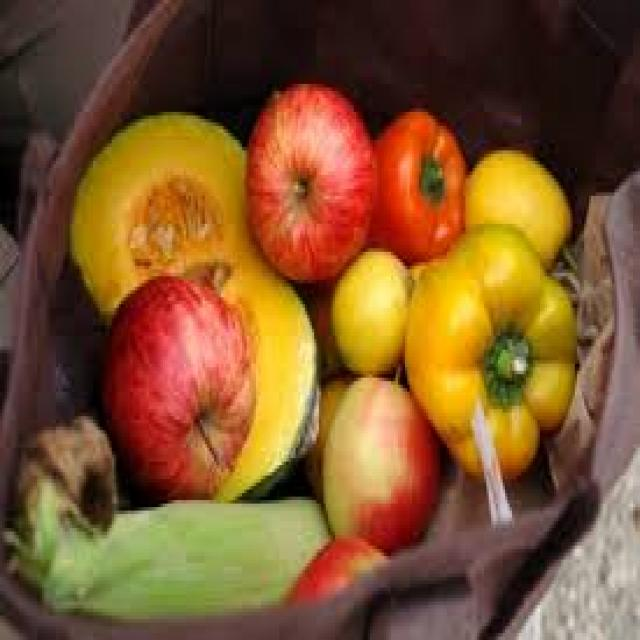organic waste: (65, 109, 317, 493), (16, 423, 328, 605), (403, 220, 577, 483), (98, 273, 256, 500), (245, 77, 372, 276), (319, 367, 444, 549), (458, 143, 572, 273), (370, 105, 465, 255), (331, 245, 416, 374), (272, 535, 389, 595)
